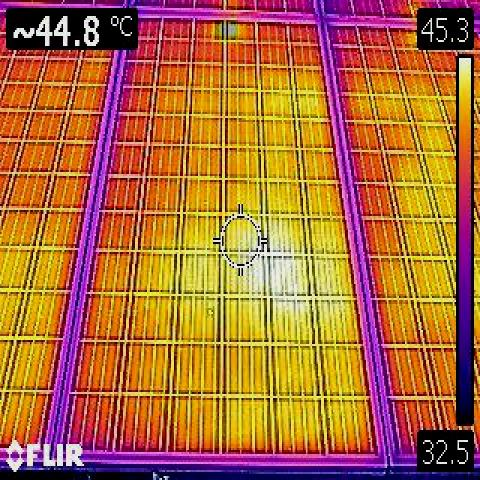fault: (258, 249, 311, 315), (215, 20, 238, 40)
